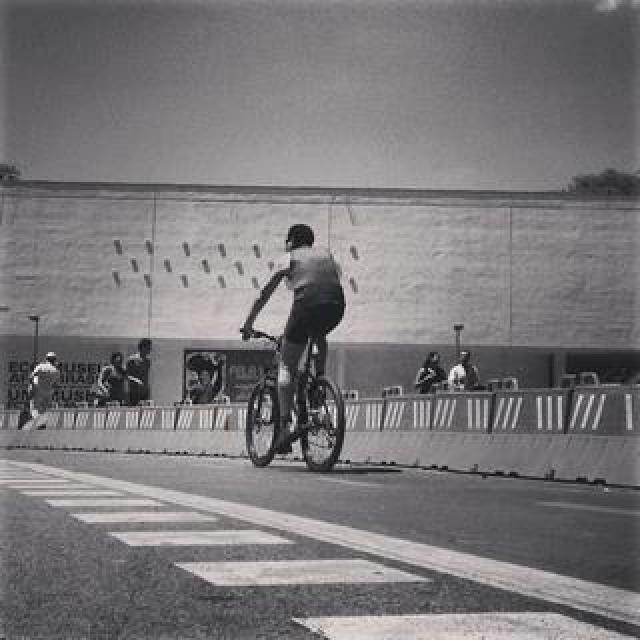MC-Bike: (238, 224, 350, 440), (26, 350, 62, 430), (124, 338, 154, 406), (90, 352, 126, 406)
Person: (242, 326, 348, 472)
